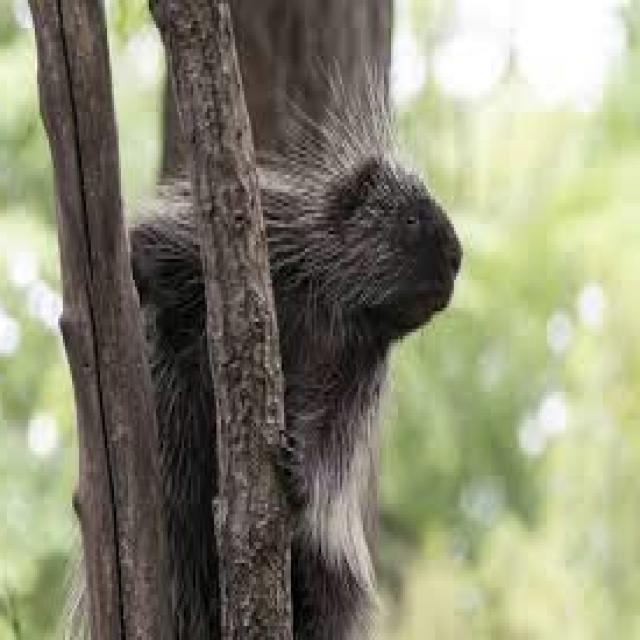porcupine: (263, 84, 463, 637)
